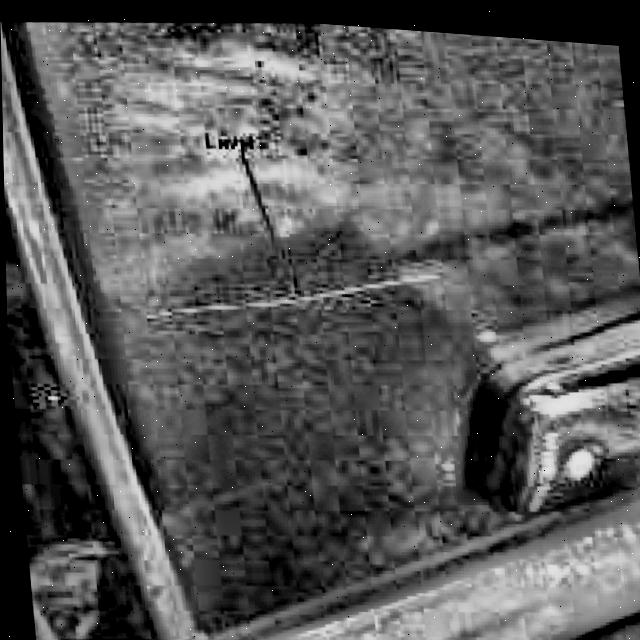bumper_scratch: (120, 236, 450, 344)
